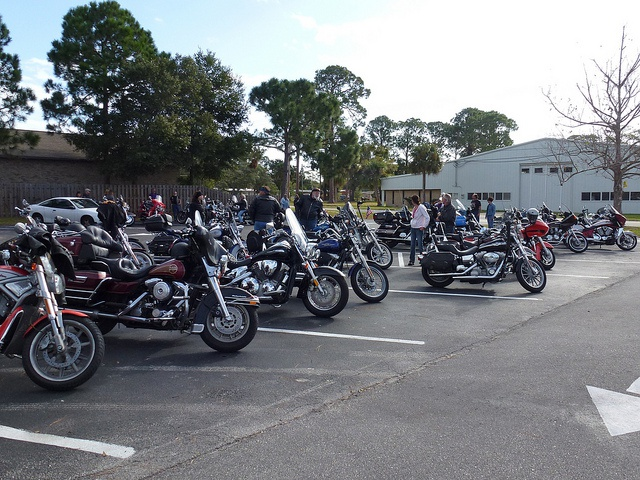non-vehicle: (59, 209, 258, 354), (146, 208, 346, 315), (0, 221, 105, 390), (417, 215, 552, 290), (311, 204, 388, 303), (300, 193, 394, 268), (58, 227, 153, 270), (366, 204, 453, 248), (573, 200, 638, 250), (546, 207, 589, 252), (519, 219, 555, 269), (454, 231, 490, 250)
